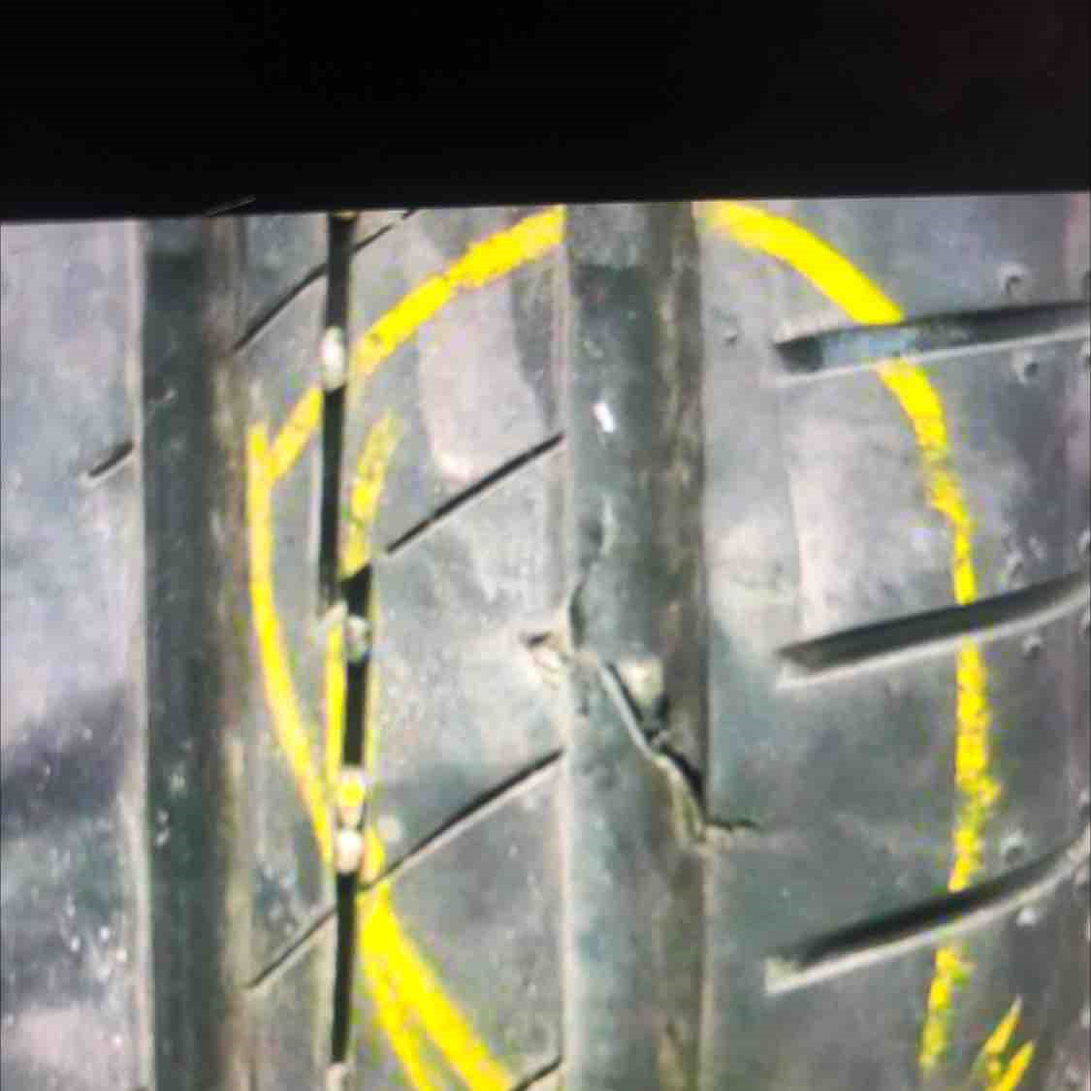tr: (502, 485, 770, 860)
